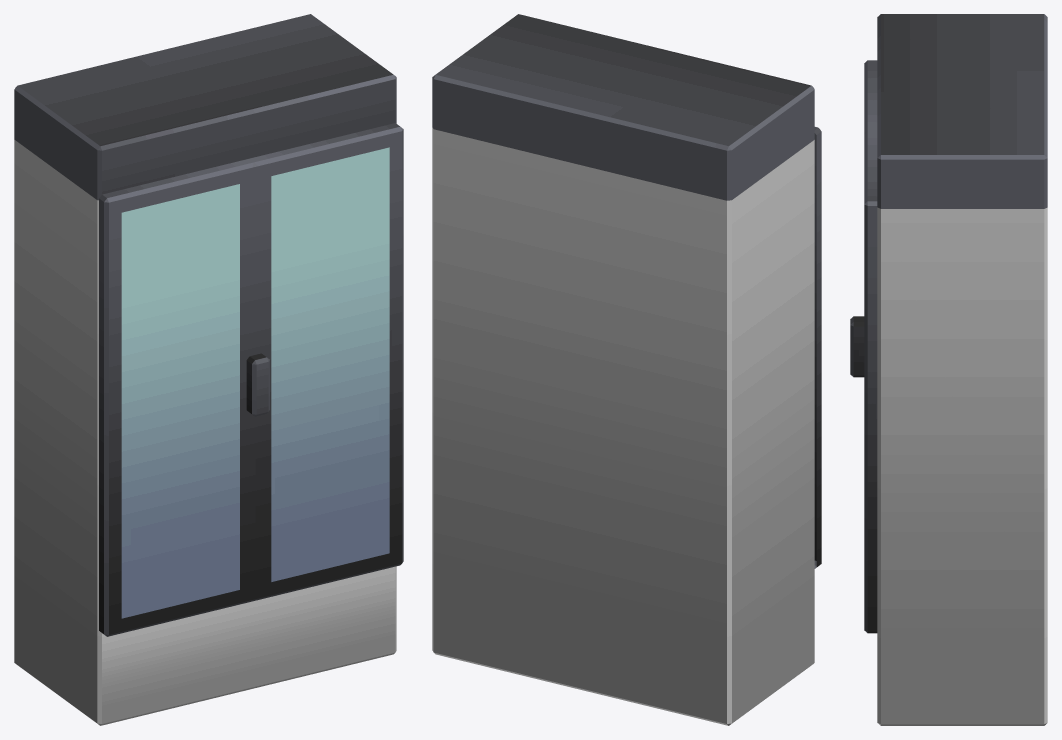
Rendered from frigogidaire.glb.
3 views of the same model, side by side, from view 1: azimuth 30°, elevation 25°; view 2: azimuth 150°, elevation 25°; view 3: azimuth 270°, elevation 25° (orthographic).
Parts seen in each view (by area): view 1: Cube; view 2: Cube; view 3: Cube.
Boxes of the visible parts, bbox=[...] form: Cube: bbox=[14, 14, 403, 725]; Cube: bbox=[432, 14, 821, 725]; Cube: bbox=[850, 14, 1047, 725].
Size of the model in its own units: 2 by 3.7 by 1.16.
Materials: 1 (1 with a texture image).
